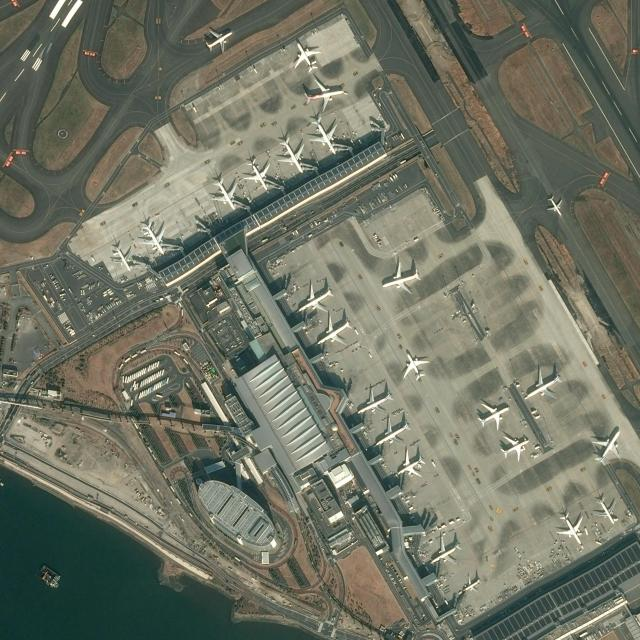aircraft: (301, 76, 346, 110), (523, 368, 564, 402), (306, 115, 339, 155), (316, 314, 354, 348), (591, 424, 623, 464), (296, 280, 331, 314), (374, 416, 410, 449), (382, 260, 420, 291), (275, 138, 306, 174), (355, 387, 391, 417), (429, 536, 462, 568), (495, 434, 533, 460), (476, 402, 512, 429), (138, 222, 167, 254), (400, 349, 428, 382), (243, 158, 270, 192), (395, 448, 425, 478), (292, 40, 320, 72), (210, 178, 238, 210), (556, 512, 584, 542), (202, 26, 233, 52), (594, 494, 617, 524), (110, 246, 134, 272), (546, 195, 564, 215), (461, 576, 480, 592)
